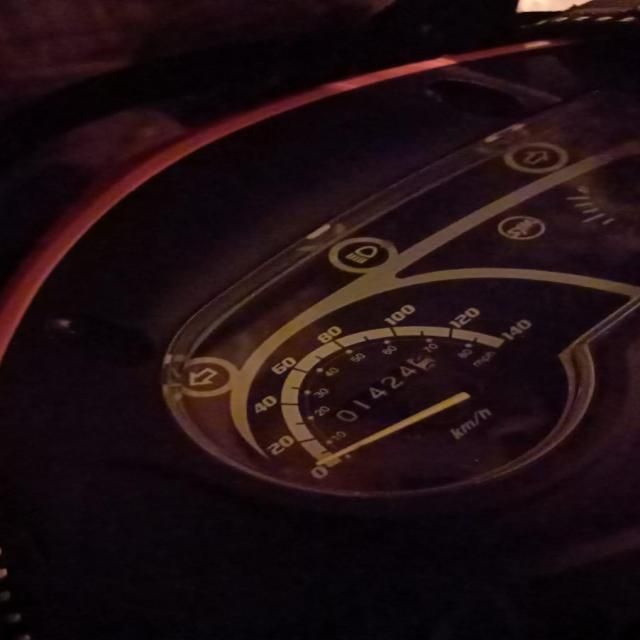odometer: (330, 352, 442, 425)
